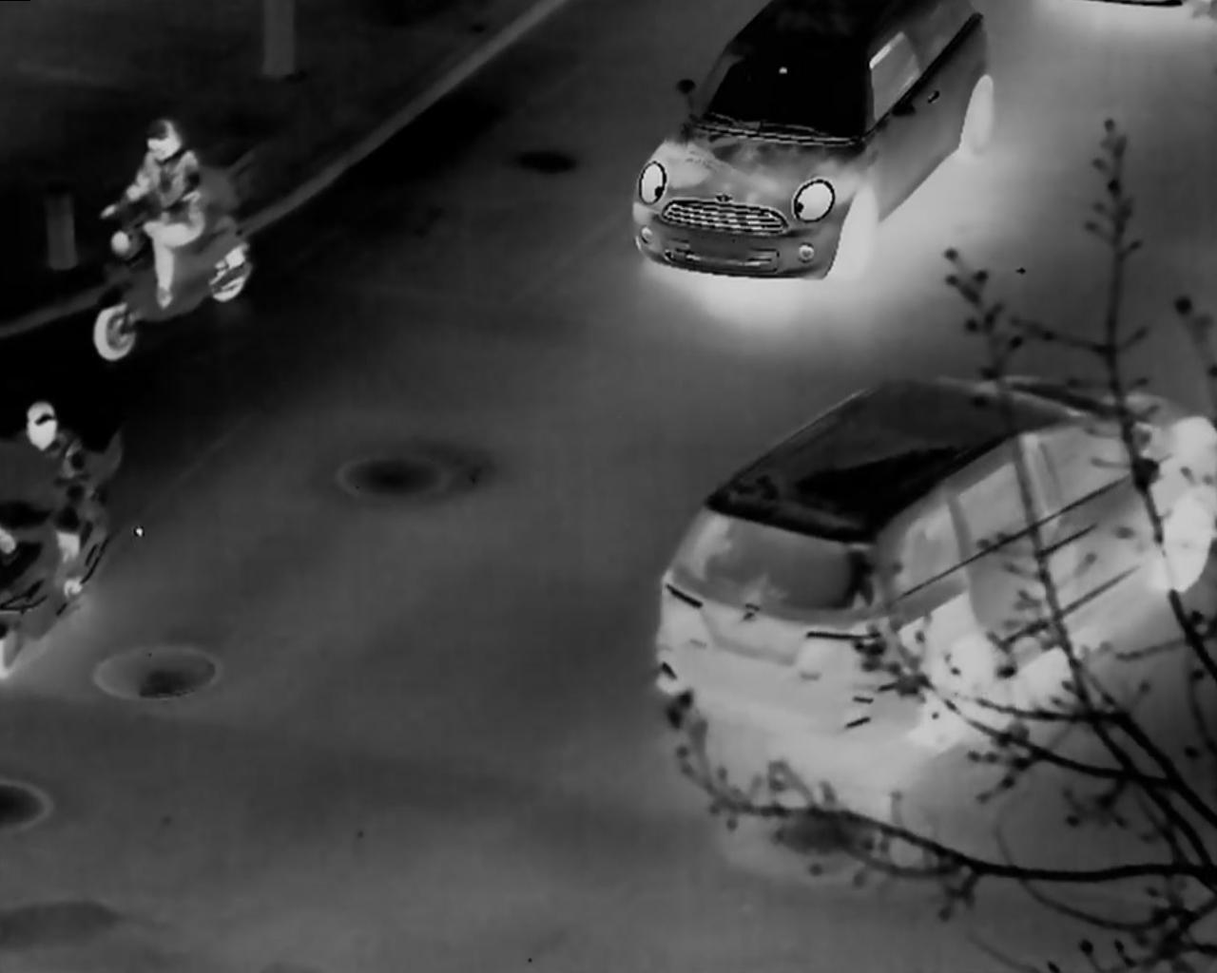person: (118, 123, 204, 302), (17, 396, 88, 606)
